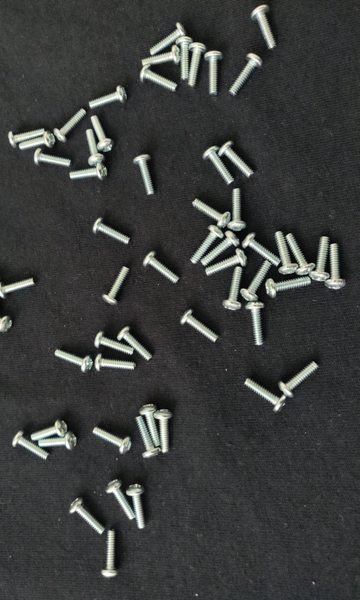shortscrew: (228, 53, 264, 97), (278, 361, 320, 398), (244, 378, 287, 413), (68, 498, 105, 536), (180, 309, 220, 344), (219, 140, 255, 178), (241, 232, 280, 267), (285, 233, 317, 275), (143, 250, 181, 285), (190, 226, 224, 265), (201, 231, 240, 265), (192, 198, 233, 229), (241, 261, 272, 302), (106, 479, 136, 521), (251, 4, 278, 50), (11, 431, 51, 462), (117, 327, 153, 361), (203, 146, 234, 185), (150, 23, 189, 54), (206, 249, 248, 276), (140, 64, 179, 93), (102, 266, 130, 306), (135, 417, 161, 459), (54, 109, 87, 142), (92, 218, 132, 245), (93, 428, 133, 454), (275, 231, 299, 274), (222, 267, 245, 311), (266, 277, 312, 299), (326, 244, 347, 290), (101, 530, 120, 579), (134, 154, 156, 196), (310, 237, 331, 281), (127, 484, 147, 530), (54, 350, 94, 373), (95, 331, 135, 354), (140, 405, 161, 447), (205, 50, 224, 96), (91, 114, 114, 152), (227, 188, 247, 231), (89, 86, 128, 108), (246, 302, 265, 347), (30, 419, 68, 441), (154, 409, 173, 453), (142, 46, 180, 68), (176, 36, 194, 82), (0, 276, 37, 298), (188, 43, 206, 87), (33, 148, 72, 167), (8, 128, 45, 148), (95, 354, 136, 372), (87, 129, 106, 167), (19, 131, 57, 150), (38, 432, 78, 450), (70, 163, 109, 181), (0, 309, 12, 334), (0, 276, 2, 314)
